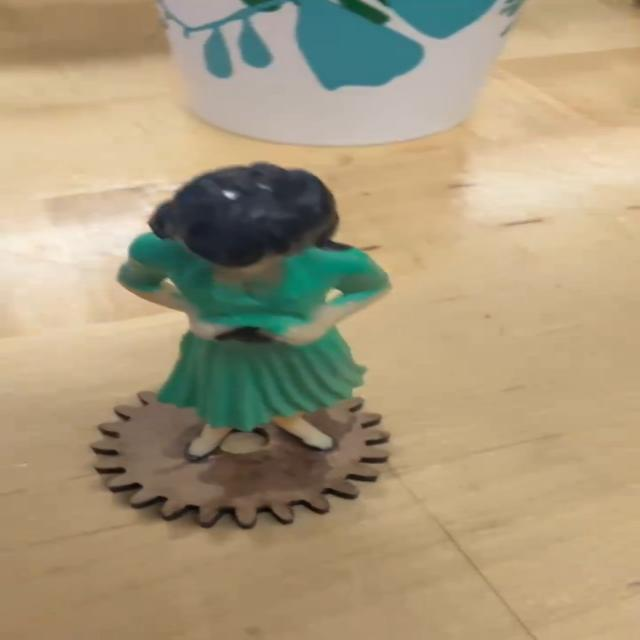Authorized: (111, 161, 387, 460)
